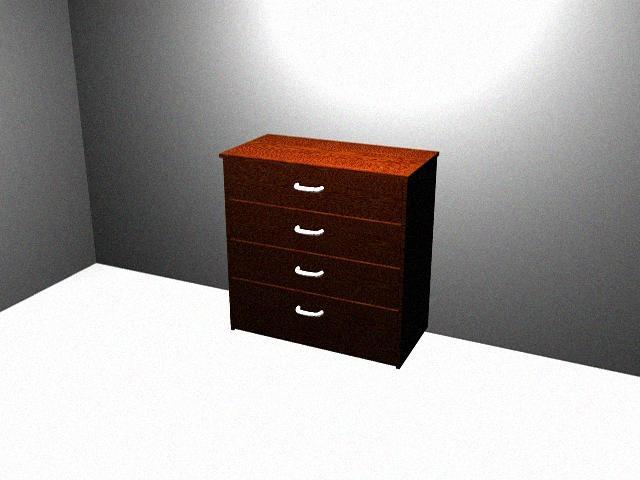cabinet_door: (230, 293, 398, 343), (225, 169, 402, 211), (226, 211, 401, 253), (228, 253, 400, 293)
handle: (289, 299, 329, 321), (288, 177, 328, 198), (289, 261, 329, 282), (291, 221, 328, 242)
